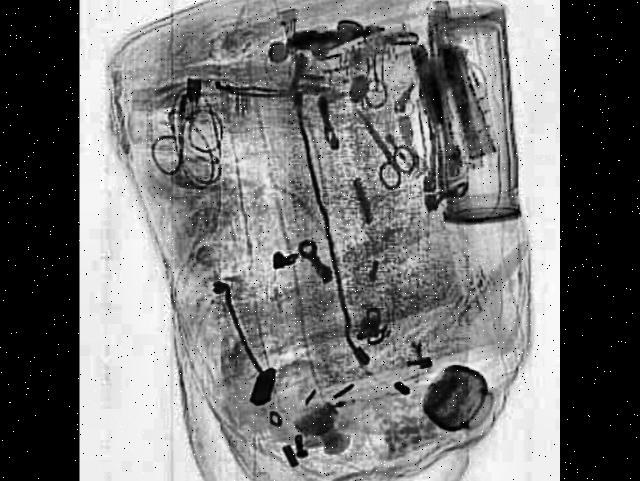Scissors: (345, 89, 416, 196)
